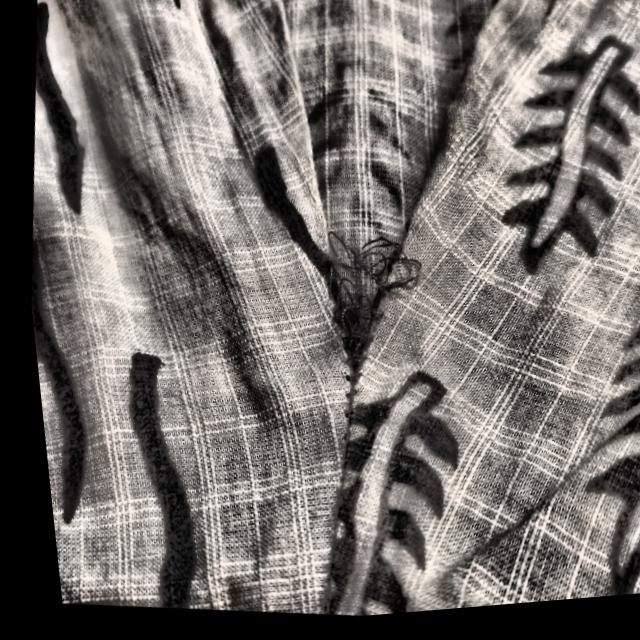Stitch: (274, 241, 440, 431)
